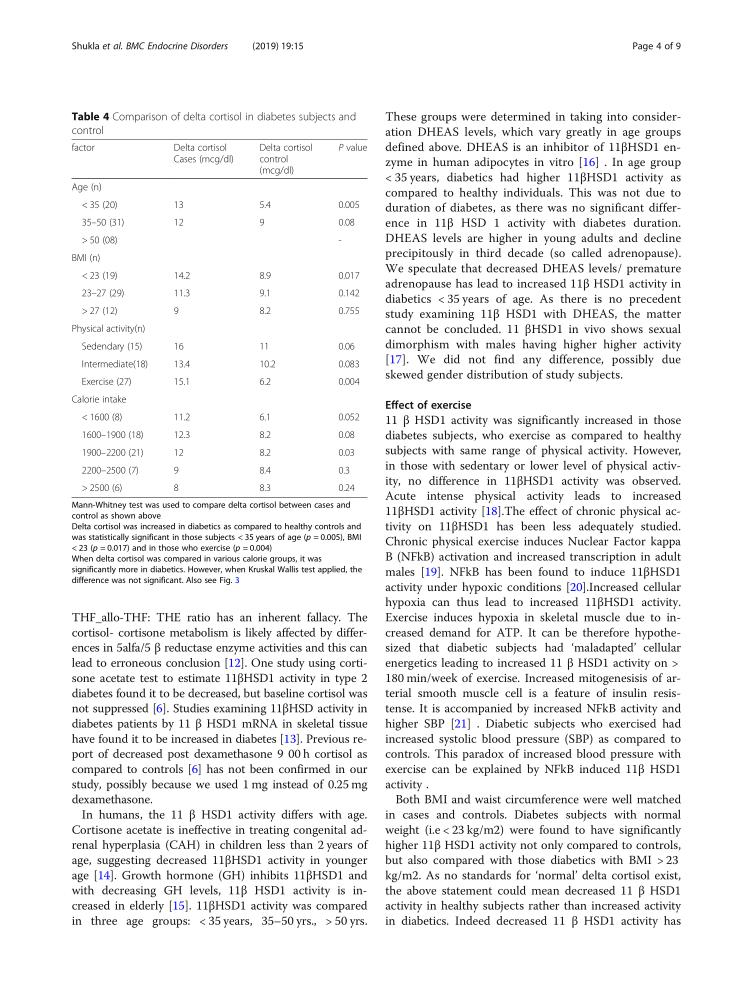table: (71, 142, 367, 493)
